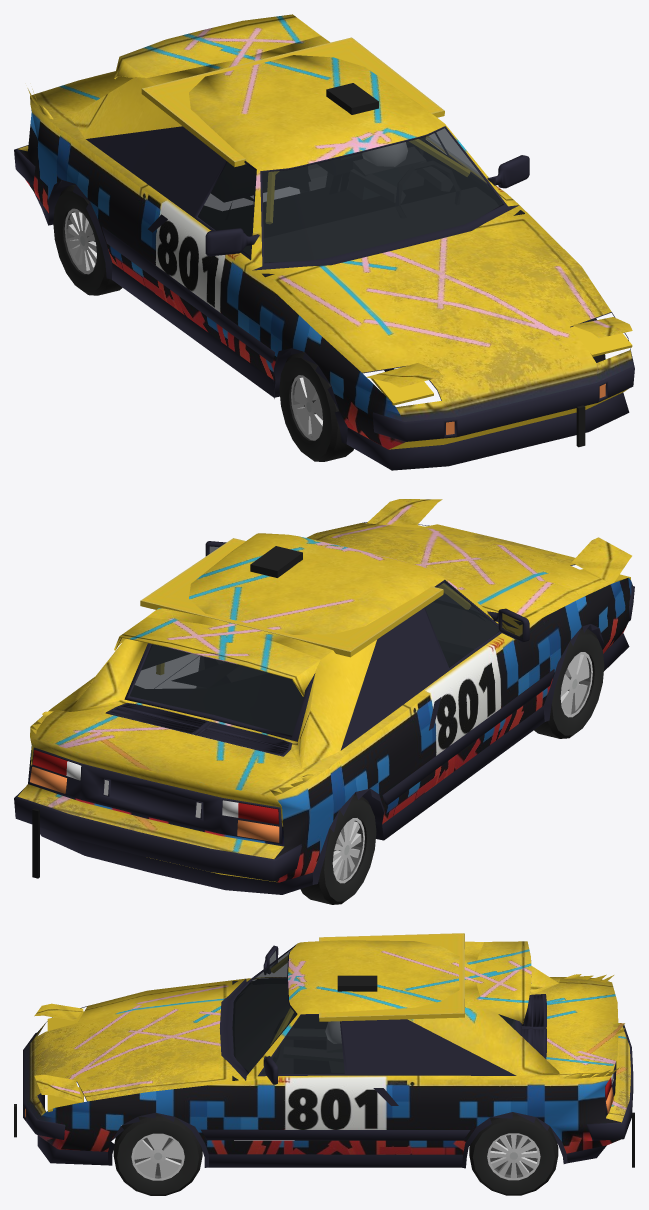
3 views of the same model, one above another, from view 1: azimuth 30°, elevation 25°; view 2: azimuth 150°, elevation 25°; view 3: azimuth 270°, elevation 25° (orthographic). The views are drawn at different scales.
Parts seen in each view (by area): view 1: body, wheel_fr, wheel_rr; view 2: body, wheel_rr, wheel_fr; view 3: body, wheel_fl, wheel_rl.
Boxes of the visible parts, x1,y1,x2,y2 form: body: [14, 14, 634, 470]; wheel_fr: [279, 352, 353, 461]; wheel_rr: [53, 184, 122, 295]; body: [14, 499, 634, 894]; wheel_rr: [300, 794, 376, 904]; wheel_fr: [534, 627, 604, 738]; body: [14, 933, 634, 1168]; wheel_fl: [113, 1113, 202, 1195]; wheel_rl: [469, 1112, 558, 1195].
Size of the model in its own units: 1.91 by 1.28 by 4.05.
2 materials, 1 textured.
